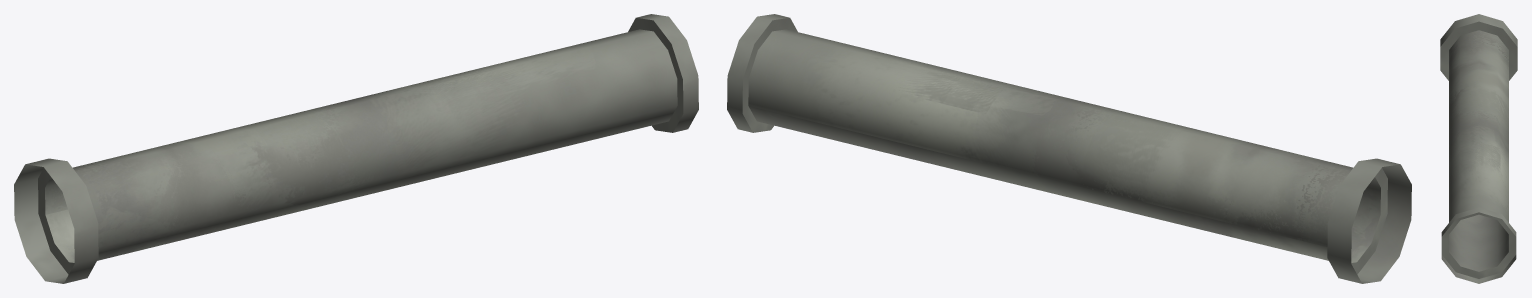
File: pipe_2_05.fbx
3 renders of one model, left to right at view 1: azimuth 30°, elevation 25°; view 2: azimuth 150°, elevation 25°; view 3: azimuth 270°, elevation 25°, orthographic. The views are drawn at different scales.
Visible parts, largest first — view 1: Object028; view 2: Object028; view 3: Object028.
Boxes of the visible parts, x1=… form: Object028: x1=14, y1=14, x2=698, y2=283; Object028: x1=727, y1=14, x2=1411, y2=283; Object028: x1=1440, y1=14, x2=1517, y2=283.
Size of the model in its own units: 48.49 by 8.47 by 8.06.
